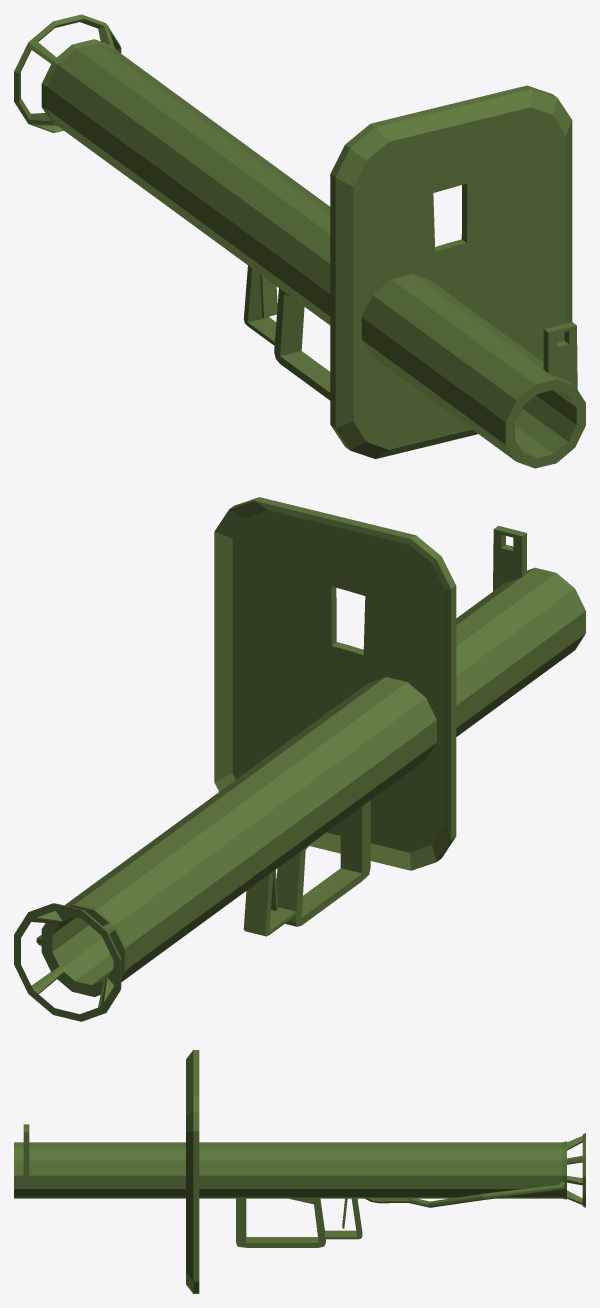
The model's file is Panzerbrecher (1).fbx.
The picture shows the model from 3 angles, top to bottom: view 1: azimuth 30°, elevation 25°; view 2: azimuth 150°, elevation 25°; view 3: azimuth 270°, elevation 25°; orthographic projection. The views are drawn at different scales.
Visible parts, largest first — view 1: Teil5, Teil2, Teil4, Teil1, Teil3, Teil6; view 2: Teil5, Teil2, Teil1, Teil3, Teil4, Teil6; view 3: Teil2, Teil1, Teil4, Teil3, Teil6, Teil5.
Part boxes in pixels (<box>): Teil5: <box>330,85,572,458</box>; Teil2: <box>104,85,330,288</box>; Teil4: <box>435,322,585,468</box>; Teil1: <box>270,207,504,409</box>; Teil3: <box>14,14,172,167</box>; Teil6: <box>243,265,330,400</box>; Teil5: <box>214,497,456,870</box>; Teil2: <box>116,740,350,943</box>; Teil1: <box>281,619,515,821</box>; Teil3: <box>14,861,184,1021</box>; Teil4: <box>456,526,585,700</box>; Teil6: <box>36,800,370,945</box>; Teil2: <box>295,1142,493,1198</box>; Teil1: <box>97,1142,295,1198</box>; Teil4: <box>14,1124,97,1198</box>; Teil3: <box>493,1133,585,1207</box>; Teil6: <box>236,1181,564,1247</box>; Teil5: <box>186,1050,199,1293</box>.
Size of the model in its own units: 30.98 by 41.5 by 109.
